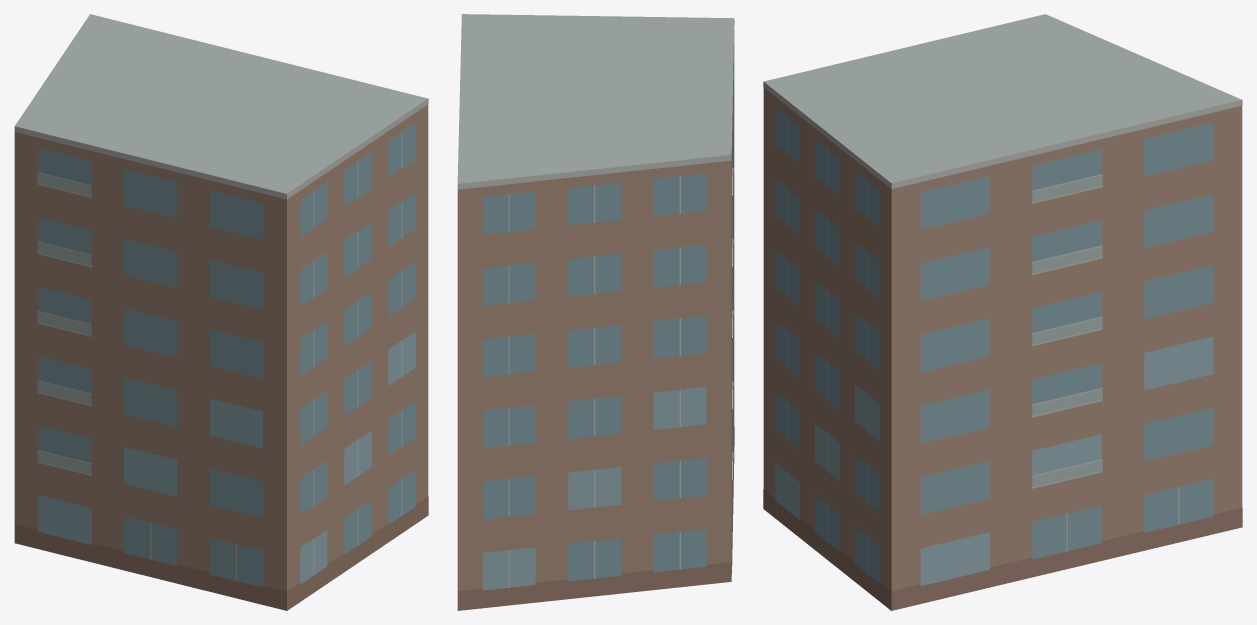
The model's file is survey-upis-32667753.glb.
3 renders of one model, left to right at view 1: azimuth 30°, elevation 25°; view 2: azimuth 150°, elevation 25°; view 3: azimuth 270°, elevation 25°, orthographic. The views are drawn at different scales.
Parts seen in each view (by area): view 1: survey-upis-32667753.tmp; view 2: survey-upis-32667753.tmp; view 3: survey-upis-32667753.tmp.
Part boxes in pixels (left/top/right/bottom): survey-upis-32667753.tmp: left=14, top=14, right=428, bottom=610; survey-upis-32667753.tmp: left=457, top=14, right=734, bottom=610; survey-upis-32667753.tmp: left=763, top=14, right=1242, bottom=610.
Size of the model in its own units: 15.57 by 18.3 by 18.59.
